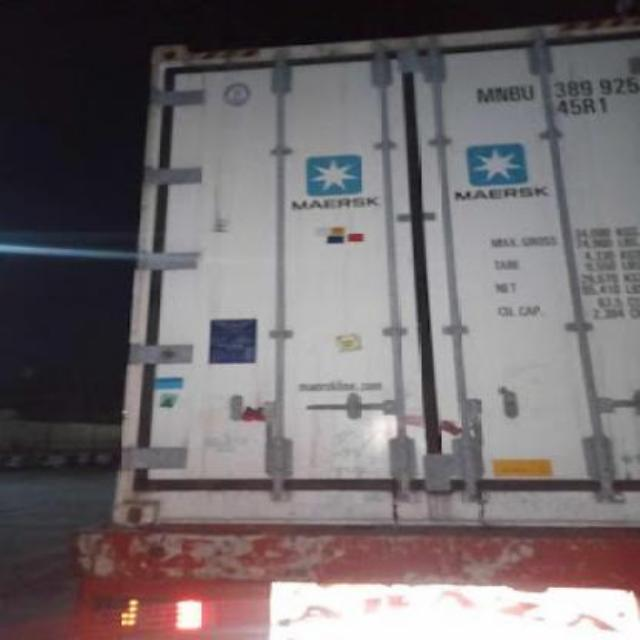2: (614, 75, 626, 95)
3: (554, 81, 568, 97)
5: (626, 74, 638, 96)
8: (568, 78, 580, 98)
9: (580, 80, 594, 96), (598, 78, 612, 94)
B: (508, 84, 520, 102)
M: (474, 85, 496, 105)
N: (494, 86, 510, 102)
U: (520, 82, 536, 102)
